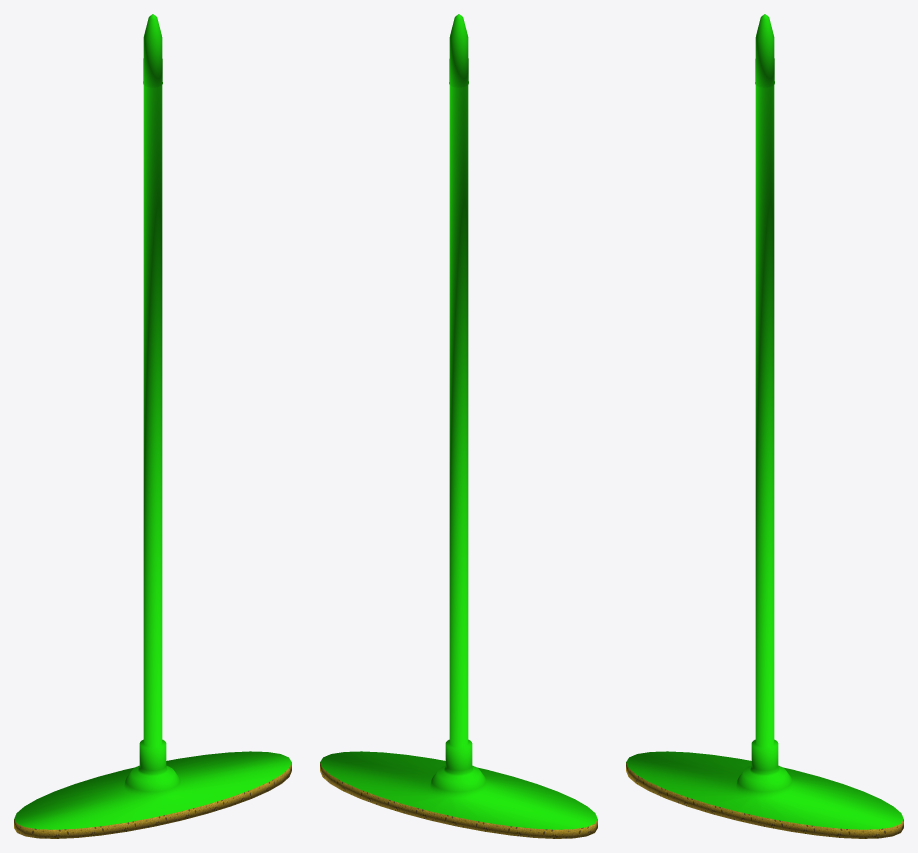
The model's file is mop.fbx.
The picture shows the model from 3 angles, left to right: view 1: azimuth 30°, elevation 25°; view 2: azimuth 150°, elevation 25°; view 3: azimuth 330°, elevation 25°; orthographic projection.
Visible parts, largest first — view 1: Mop; view 2: Mop; view 3: Mop.
Part boxes in pixels (x1=…): Mop: x1=14, y1=14, x2=291, y2=838; Mop: x1=320, y1=14, x2=597, y2=838; Mop: x1=626, y1=14, x2=903, y2=838.
Size of the model in its own units: 45.04 by 124 by 16.32.
